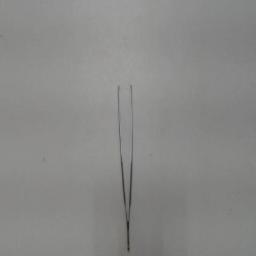Gillies Toothed Dissector: (113, 73, 137, 253)
